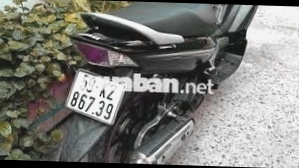Bien-so: (64, 70, 124, 132)
